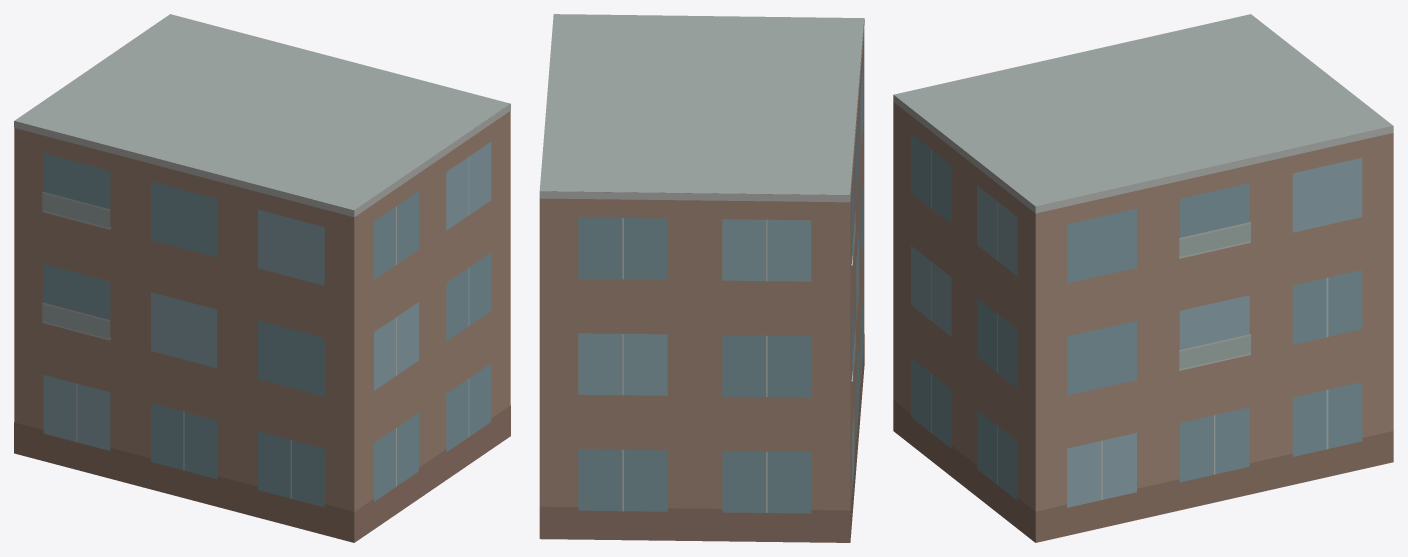
Rendered from survey-upis-32863891.glb.
3 renders of one model, left to right at view 1: azimuth 30°, elevation 25°; view 2: azimuth 150°, elevation 25°; view 3: azimuth 270°, elevation 25°, orthographic. The views are drawn at different scales.
Parts seen in each view (by area): view 1: survey-upis-32863891.tmp; view 2: survey-upis-32863891.tmp; view 3: survey-upis-32863891.tmp.
Part boxes in pixels (<box>): survey-upis-32863891.tmp: <box>14,14,510,542</box>; survey-upis-32863891.tmp: <box>539,14,864,542</box>; survey-upis-32863891.tmp: <box>893,14,1393,542</box>.
Bounding box in the file's own units: 14.37 × 11.7 × 15.78.
